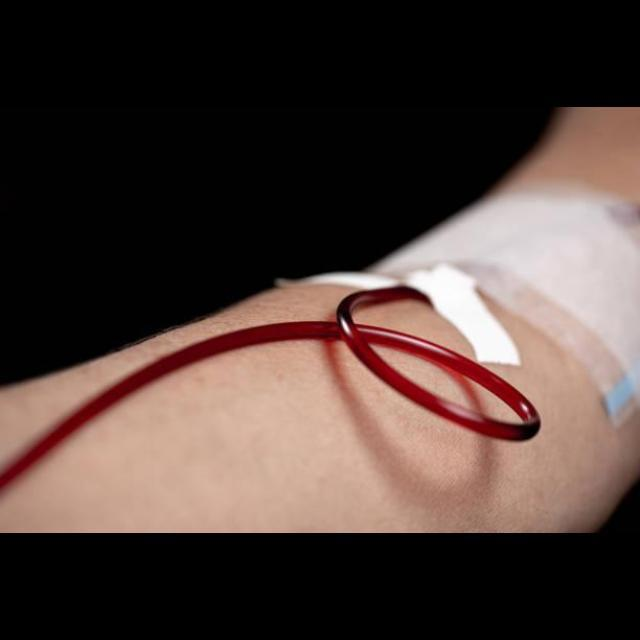blood: (0, 287, 543, 497)
